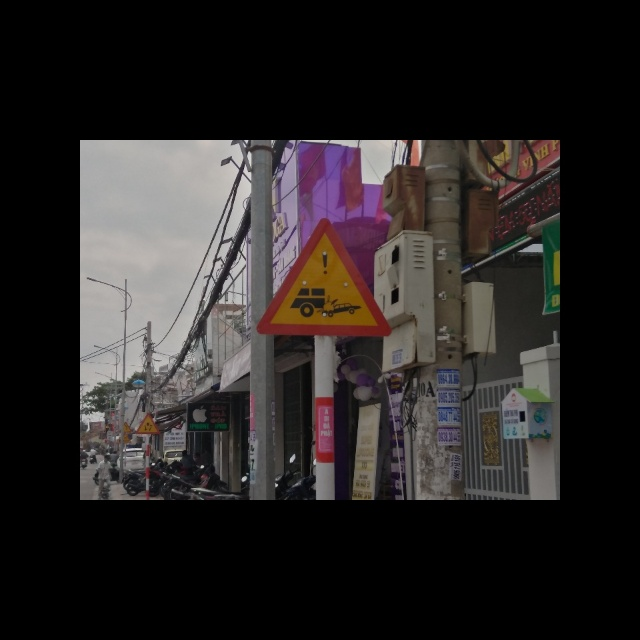Đoạn đường hay xảy ra tai nạn: (250, 215, 394, 337)
Đường đôi: (133, 412, 161, 436)
